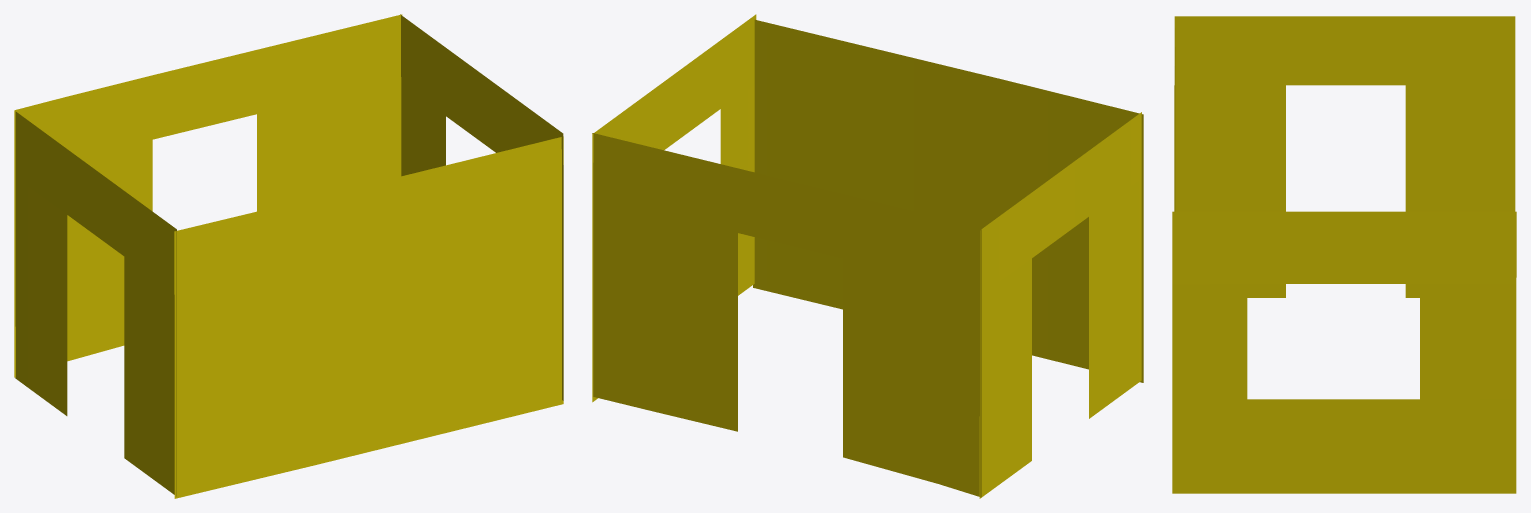
The picture shows the model from 3 angles, left to right: view 1: azimuth 30°, elevation 25°; view 2: azimuth 150°, elevation 25°; view 3: azimuth 270°, elevation 25°; orthographic projection. The views are drawn at different scales.
Visible parts, largest first — view 1: BH04B_WP_05; view 2: BH04B_WP_05; view 3: BH04B_WP_05.
Part boxes in pixels (<box>): BH04B_WP_05: <box>14,14,563,498</box>; BH04B_WP_05: <box>592,14,1143,498</box>; BH04B_WP_05: <box>1172,16,1516,493</box>.
Bounding box in the file's own units: 457 × 305 × 332.
